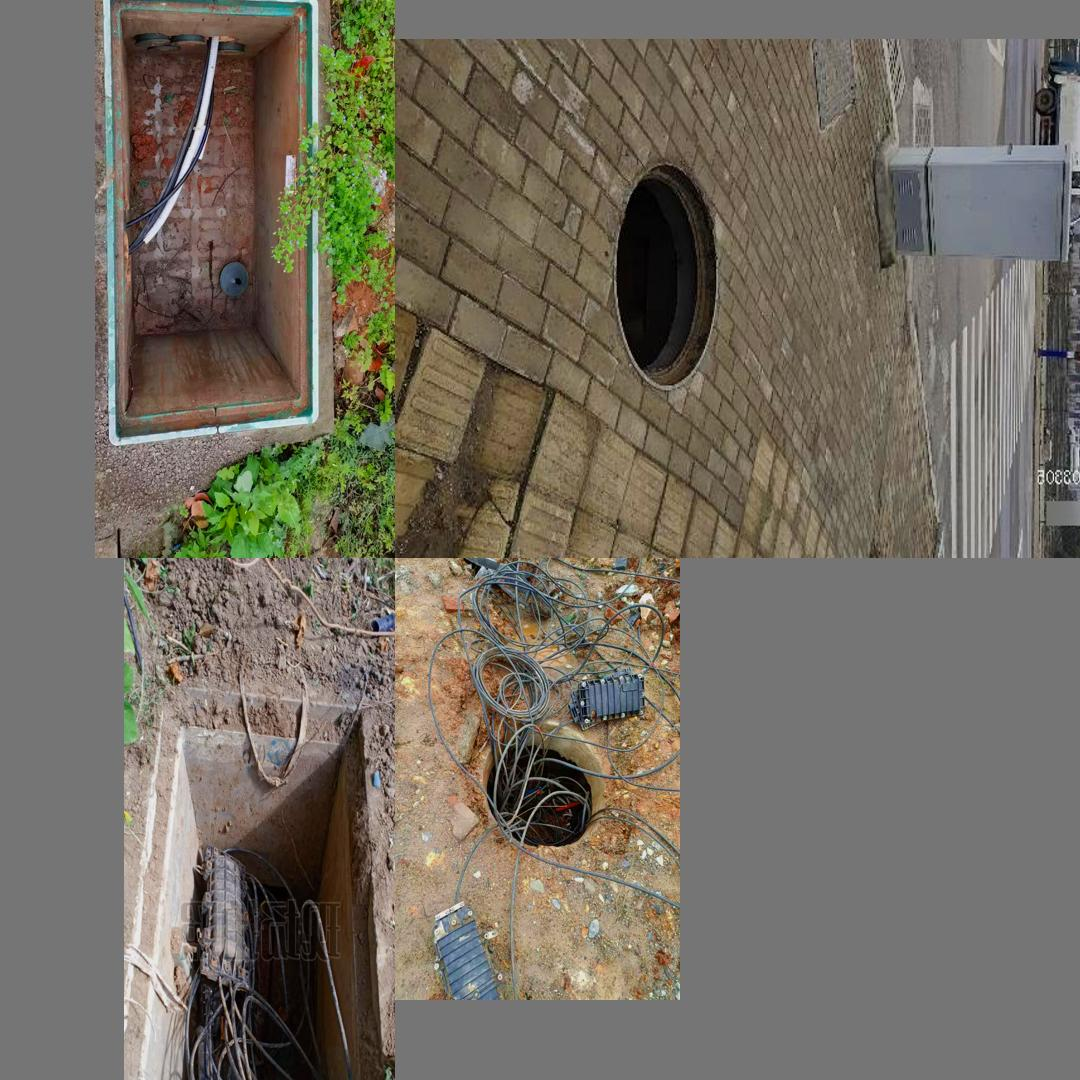lose: (124, 704, 387, 1080), (102, 0, 318, 447), (612, 162, 718, 391), (478, 724, 604, 846)
